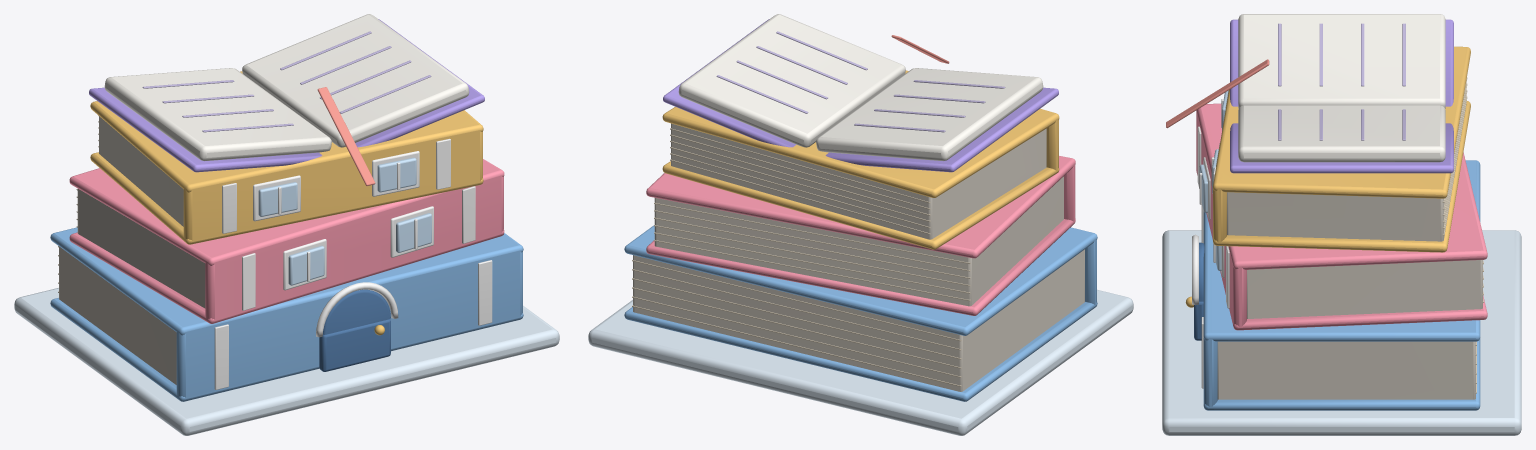
Rendered from library.glb.
The picture shows the model from 3 angles, left to right: view 1: azimuth 30°, elevation 25°; view 2: azimuth 150°, elevation 25°; view 3: azimuth 270°, elevation 25°; orthographic projection. The views are drawn at different scales.
Visible parts, largest first — view 1: base, b0_spine, leaves_1, b1_spine, leaves_-1, b2_spine, b0_top, b1_top, b0_pages, b1_pages, b2_top, b2_pages (+23 smaller); view 2: b0_pages, base, b1_pages, leaves_1, b2_pages, leaves_-1, b0_top, b1_top, b2_top, b0_bottom, b1_bottom, b2_bottom (+23 smaller); view 3: base, leaves_-1, b0_pages, b1_pages, leaves_1, b2_pages, b2_top, b1_top, b0_top, b0_bottom, b2_bottom, board_1 (+7 smaller).
Boxes of the visible parts, left/top/right/bottom form: base: left=14, top=288, right=559, bottom=435; b0_spine: left=176, top=244, right=522, bottom=397; leaves_1: left=242, top=14, right=469, bottom=147; b1_spine: left=205, top=169, right=503, bottom=319; leaves_-1: left=104, top=68, right=331, bottom=161; b2_spine: left=183, top=124, right=482, bottom=240; b0_top: left=50, top=227, right=523, bottom=335; b1_top: left=69, top=159, right=504, bottom=265; b0_pages: left=59, top=246, right=176, bottom=384; b1_pages: left=77, top=189, right=205, bottom=308; b2_top: left=90, top=71, right=483, bottom=192; b2_pages: left=99, top=116, right=183, bottom=226; b0_pages: left=633, top=249, right=1084, bottom=391; base: left=588, top=289, right=1133, bottom=435; b1_pages: left=654, top=176, right=1063, bottom=306; leaves_1: left=678, top=14, right=905, bottom=147; b2_pages: left=671, top=123, right=1046, bottom=239; leaves_-1: left=816, top=68, right=1043, bottom=161; b0_top: left=624, top=225, right=1097, bottom=335; b1_top: left=646, top=156, right=1075, bottom=258; b2_top: left=662, top=70, right=1059, bottom=197; b0_bottom: left=624, top=302, right=1097, bottom=401; b1_bottom: left=646, top=219, right=1075, bottom=315; b2_bottom: left=662, top=161, right=1059, bottom=249; base: left=1162, top=230, right=1521, bottom=435; leaves_-1: left=1238, top=14, right=1445, bottom=108; b0_pages: left=1217, top=341, right=1475, bottom=399; b1_pages: left=1247, top=260, right=1482, bottom=318; leaves_1: left=1238, top=105, right=1445, bottom=162; b2_pages: left=1227, top=95, right=1466, bottom=241; b2_top: left=1213, top=46, right=1470, bottom=198; b1_top: left=1196, top=103, right=1487, bottom=269; b0_top: left=1203, top=160, right=1480, bottom=341; b0_bottom: left=1203, top=338, right=1480, bottom=410; b2_bottom: left=1213, top=101, right=1470, bottom=252; board_1: left=1230, top=123, right=1453, bottom=173.
Bounding box in the file's own units: 3.3 × 2.24 × 2.6.
